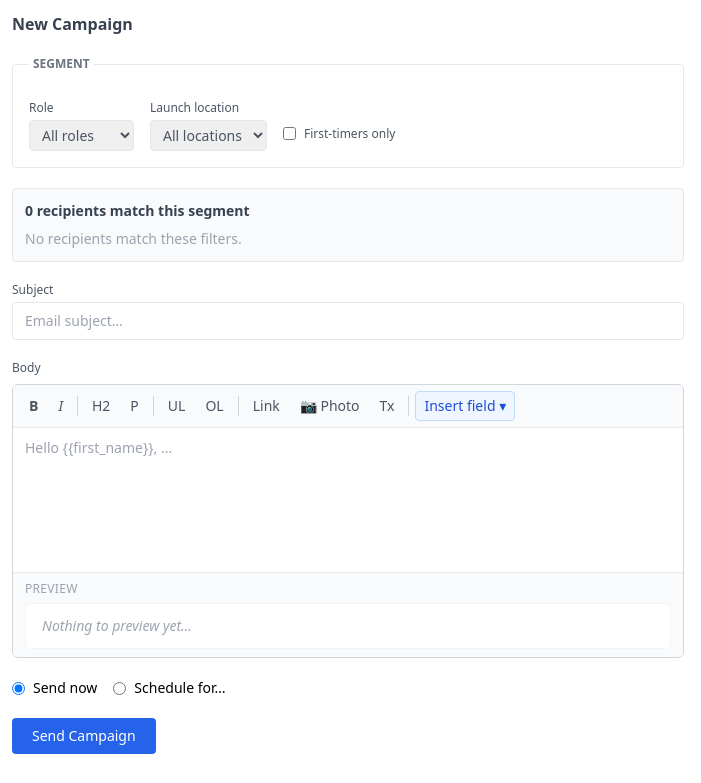
Test: CampaignComposer › shows schedule datetime input when schedule mode is selected
Click the radio button labelled "Schedule for…": (120,688) x1=113 y1=682 x2=126 y2=694
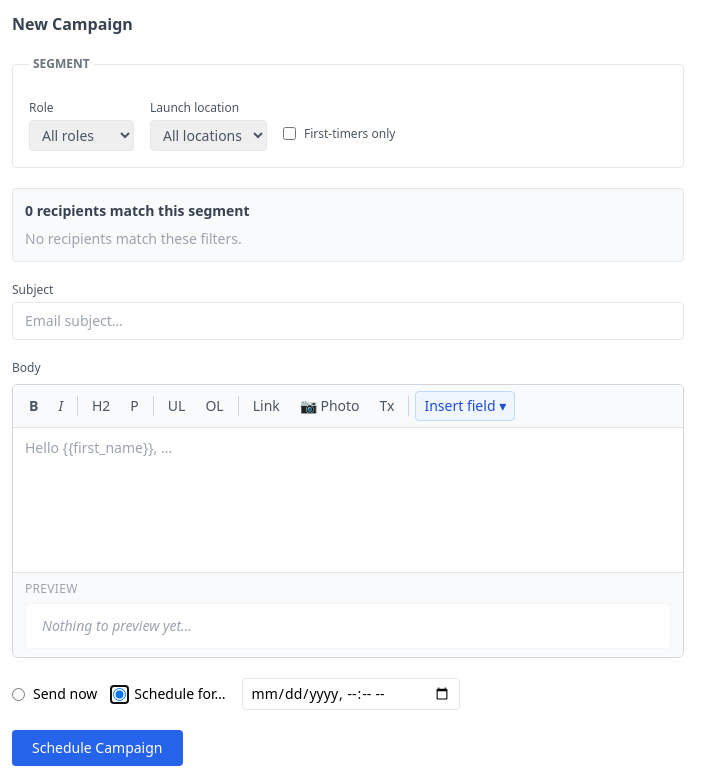
Result: the field named "schedule date and time" is shown at x1=242 y1=678 x2=460 y2=710
